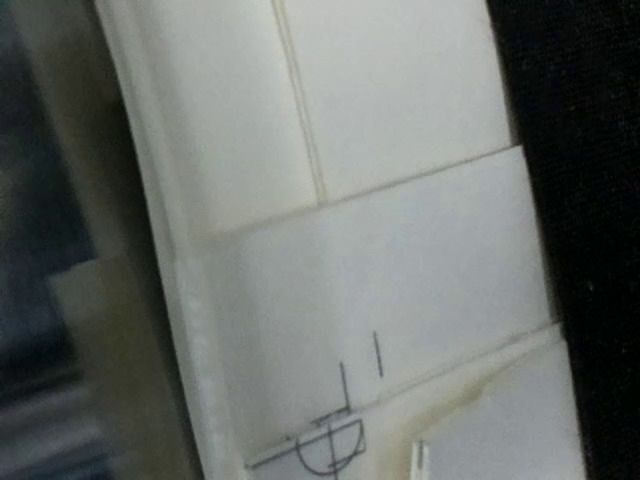misaligned: (251, 362, 373, 480)
